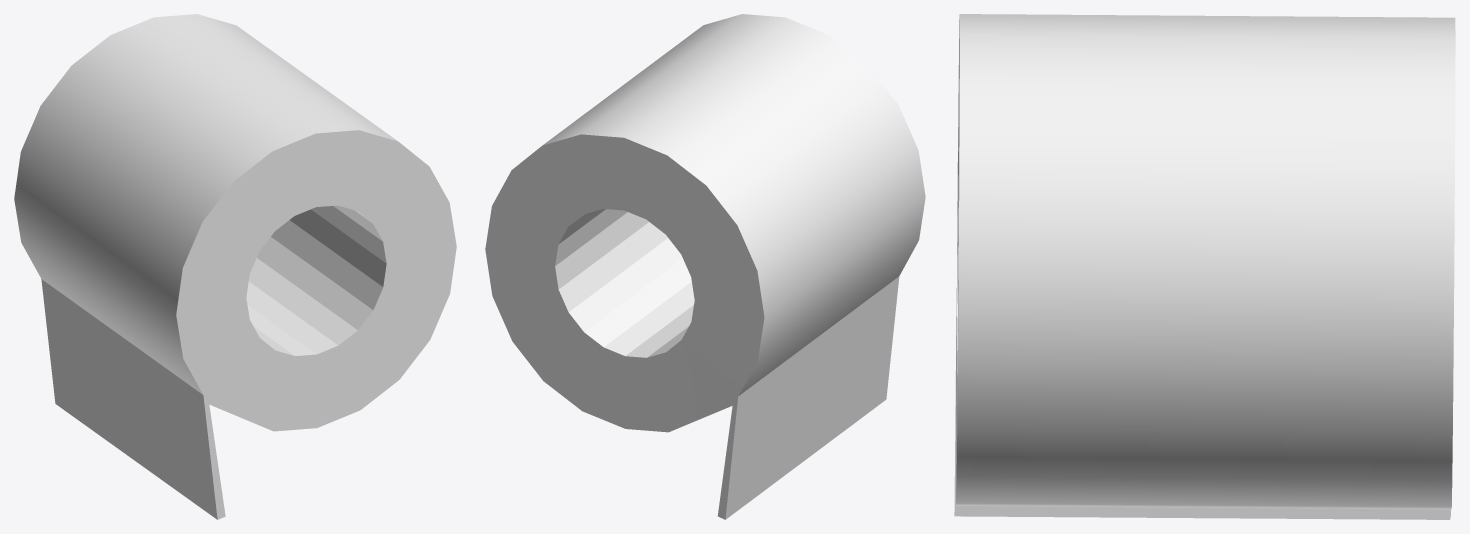
Rendered from toilet_paper.fbx.
The picture shows the model from 3 angles, left to right: view 1: azimuth 30°, elevation 25°; view 2: azimuth 150°, elevation 25°; view 3: azimuth 270°, elevation 25°; orthographic projection. The views are drawn at different scales.
Parts seen in each view (by area): view 1: tolte_paper; view 2: tolte_paper; view 3: tolte_paper.
Boxes of the visible parts, <box> form: tolte_paper: <box>14,14,456,519</box>; tolte_paper: <box>485,14,925,519</box>; tolte_paper: <box>954,14,1455,519</box>.
Bounding box in the file's own units: 12.3 × 15.21 × 12.43.
